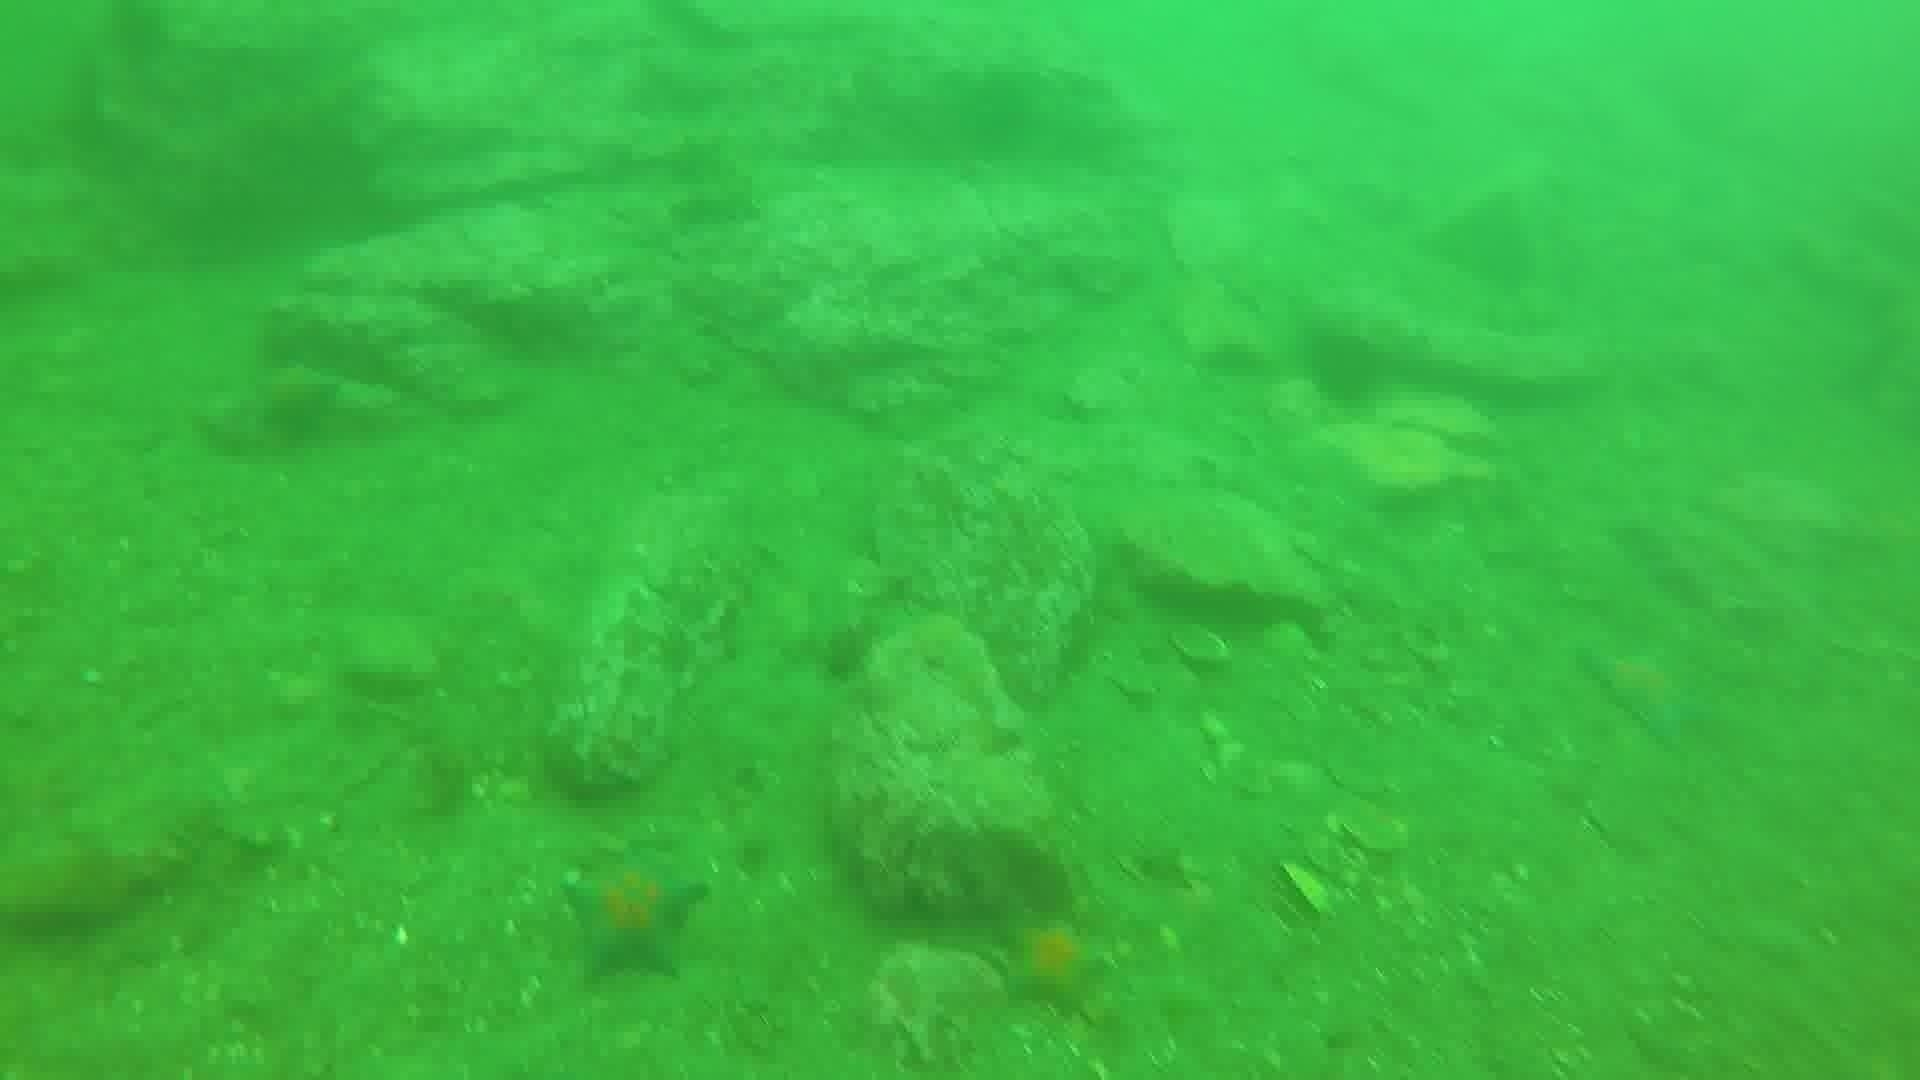echinus: (1299, 323, 1390, 411)
starfish: (558, 844, 713, 986), (1576, 636, 1716, 750), (992, 910, 1117, 1021), (228, 363, 348, 455)
